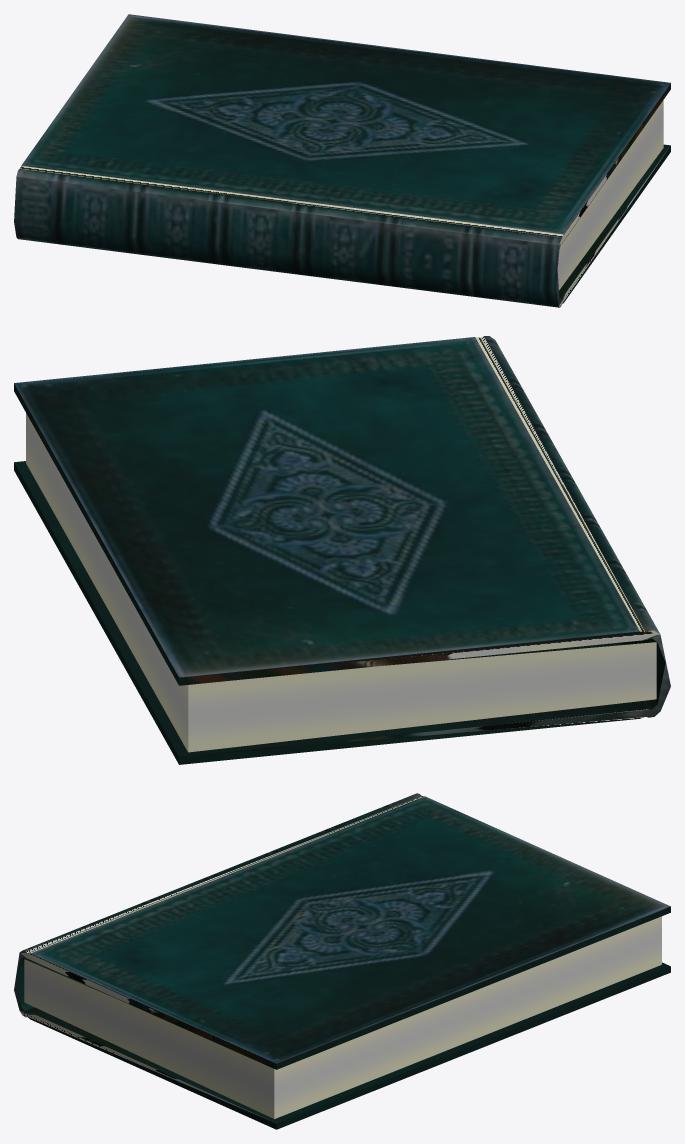
The model's file is Book_2.fbx.
The picture shows the model from 3 angles, top to bottom: view 1: azimuth 30°, elevation 25°; view 2: azimuth 150°, elevation 25°; view 3: azimuth 270°, elevation 25°; orthographic projection. The views are drawn at different scales.
Visible parts, largest first — view 1: Book_2; view 2: Book_2; view 3: Book_2.
Boxes of the visible parts, box(x1,y1,x2,y2) form: Book_2: box(14, 14, 670, 307); Book_2: box(14, 336, 670, 764); Book_2: box(14, 793, 670, 1129).
Bounding box in the file's own units: 0.2742 × 0.0307 × 0.277.
